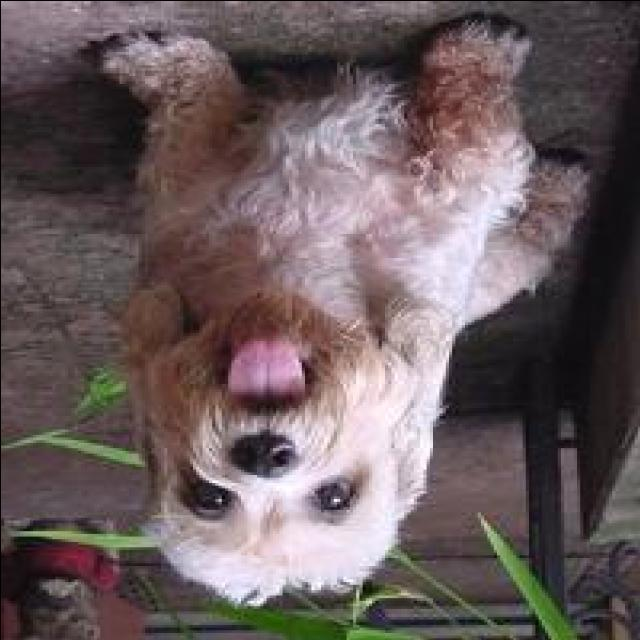dandie_dinmont: (90, 11, 588, 605)
